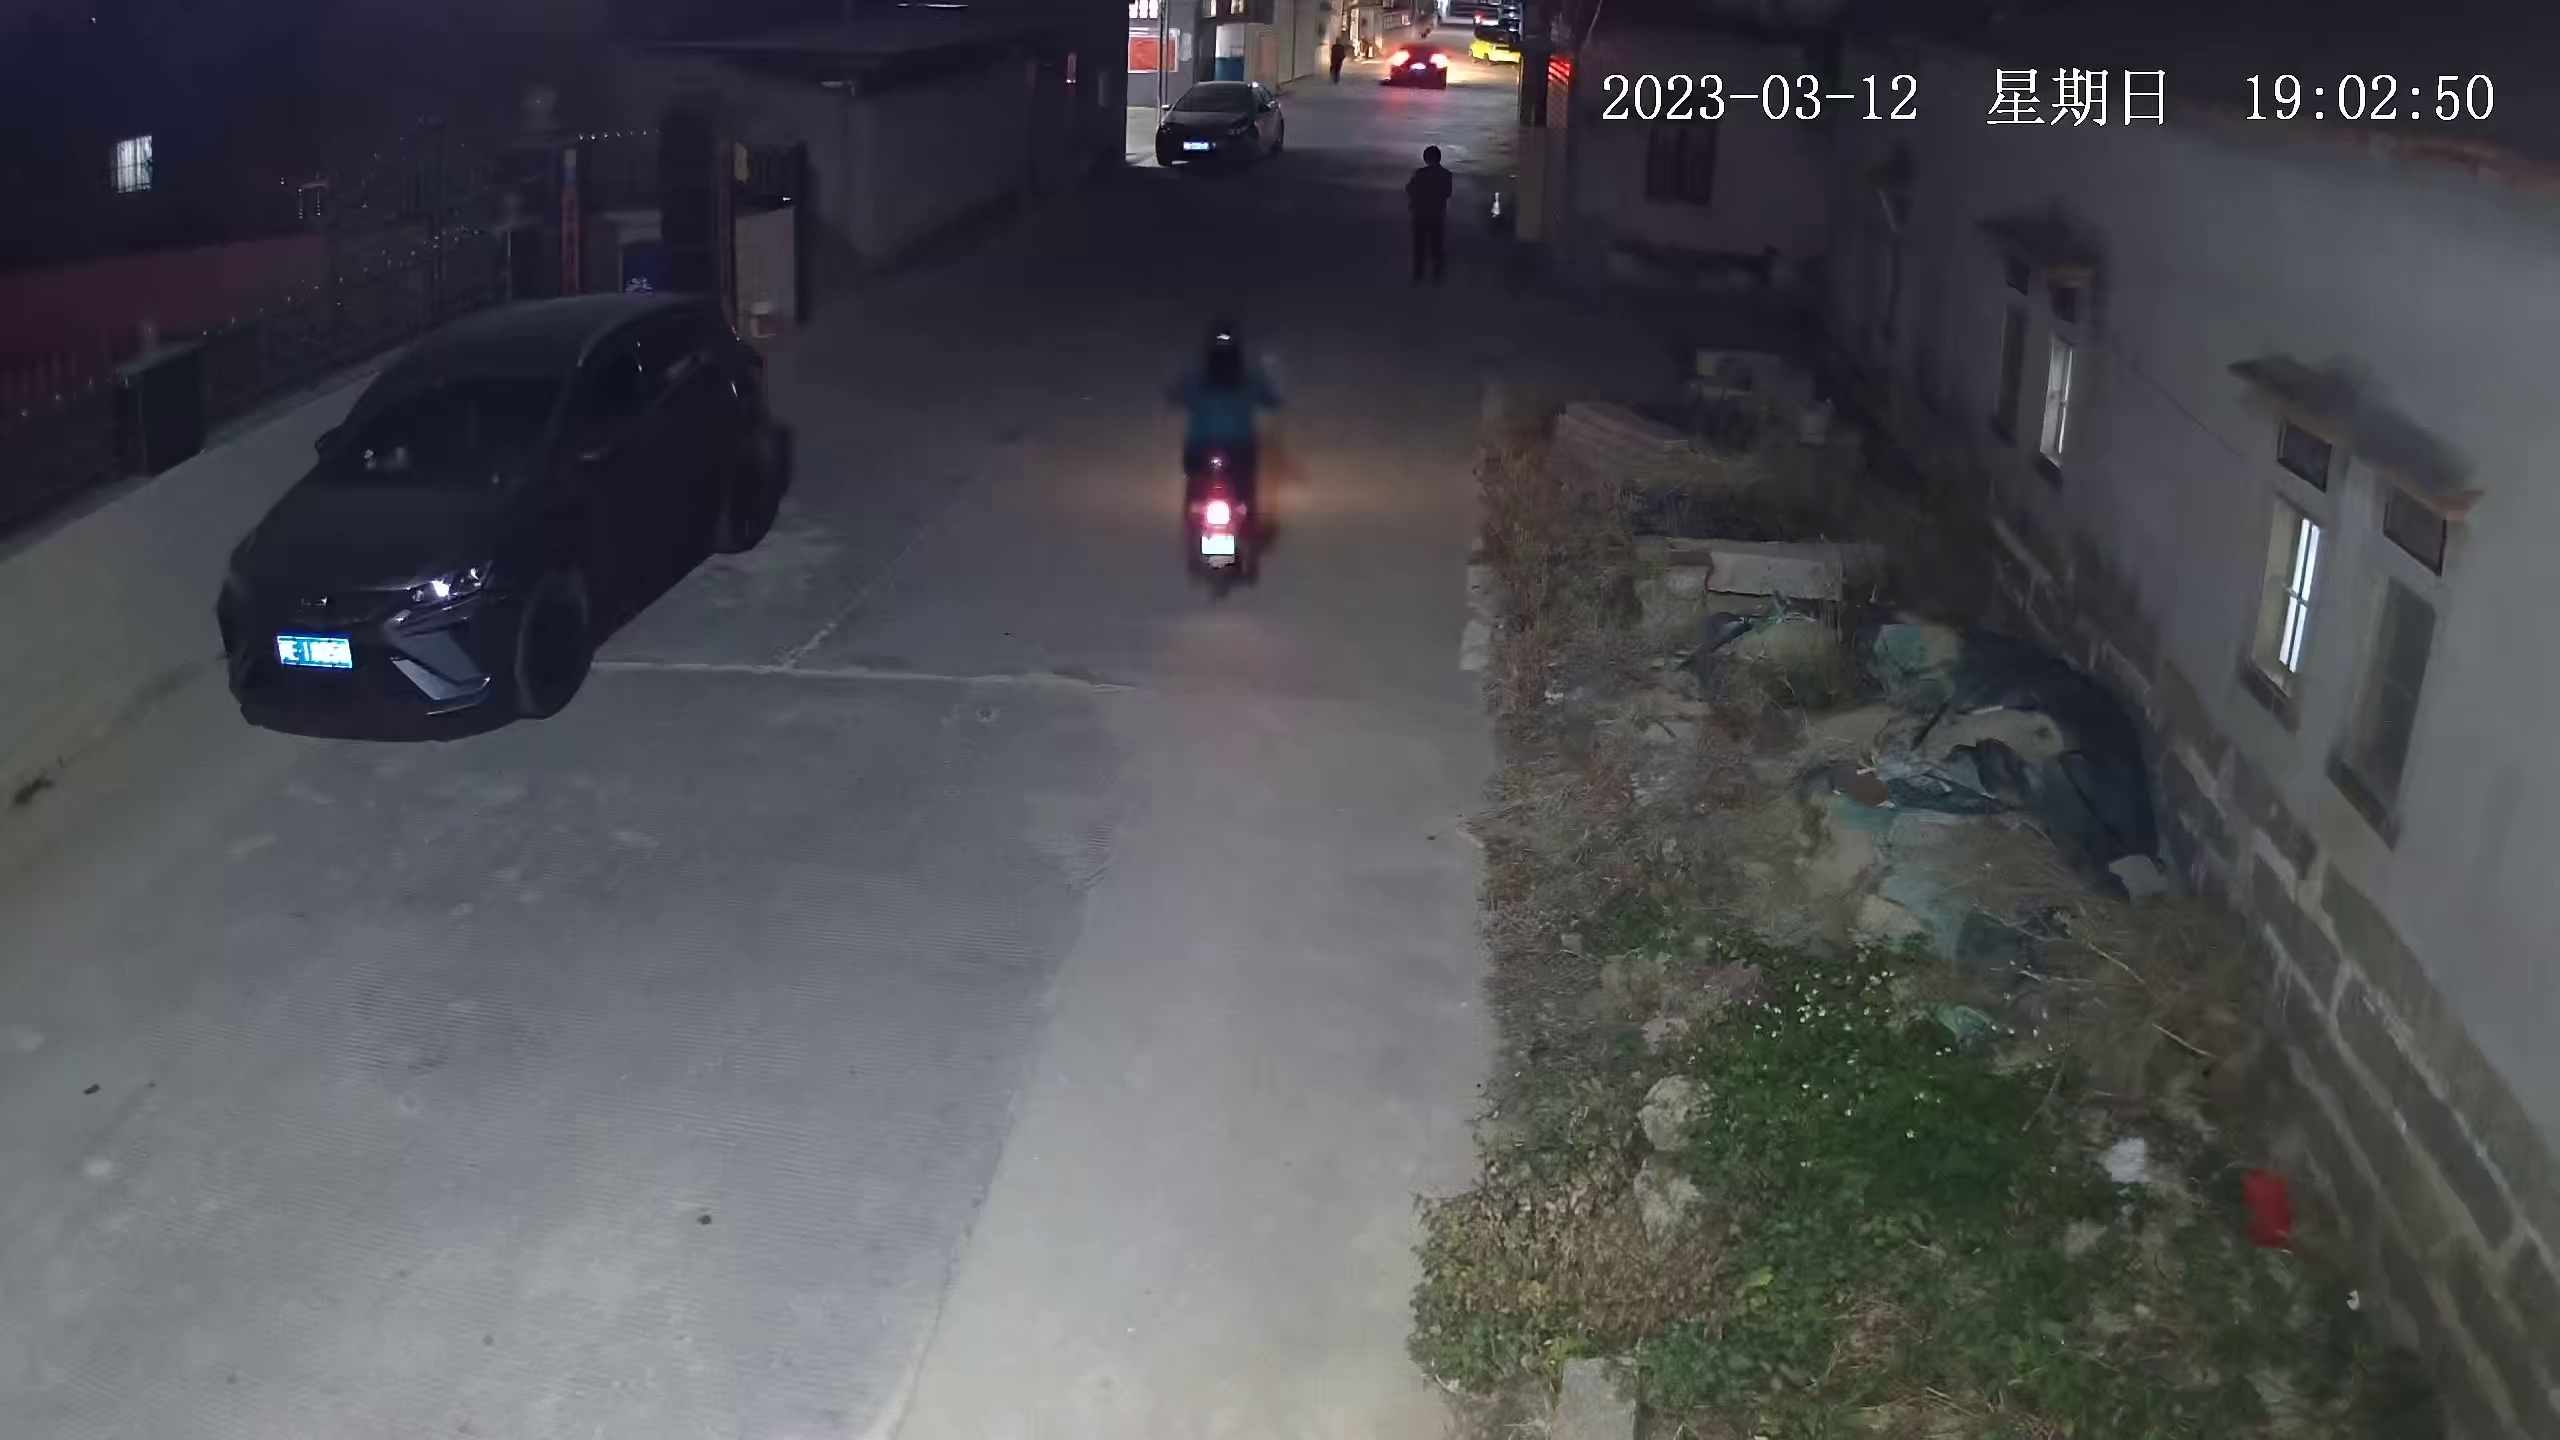motorcycle: (1157, 305, 1282, 607)
person: (1398, 133, 1463, 295), (1328, 29, 1347, 83)
sedan: (1155, 75, 1293, 173), (1388, 45, 1455, 93), (1470, 20, 1515, 65)
suv: (220, 287, 770, 744)
